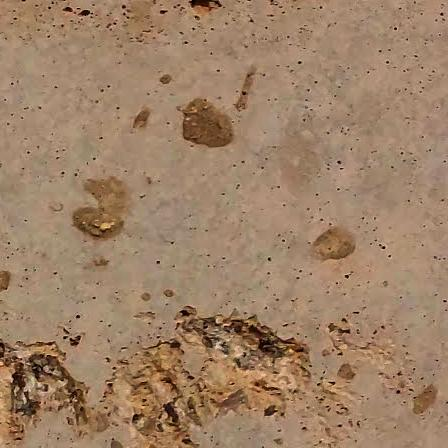spalling: (0, 306, 311, 448), (189, 0, 223, 20)
